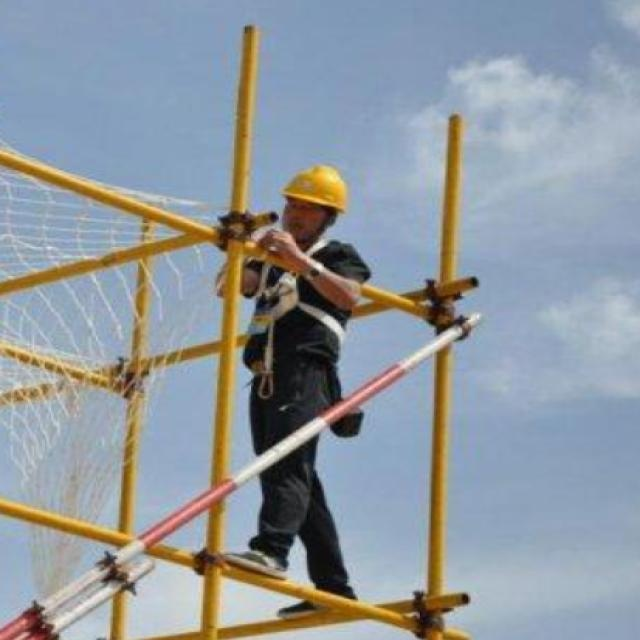Arnes_seguridad: (245, 230, 350, 348)
